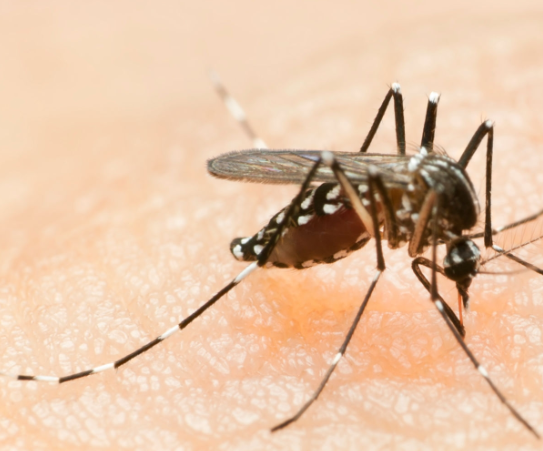dengue_mosquito: (199, 83, 541, 415)
